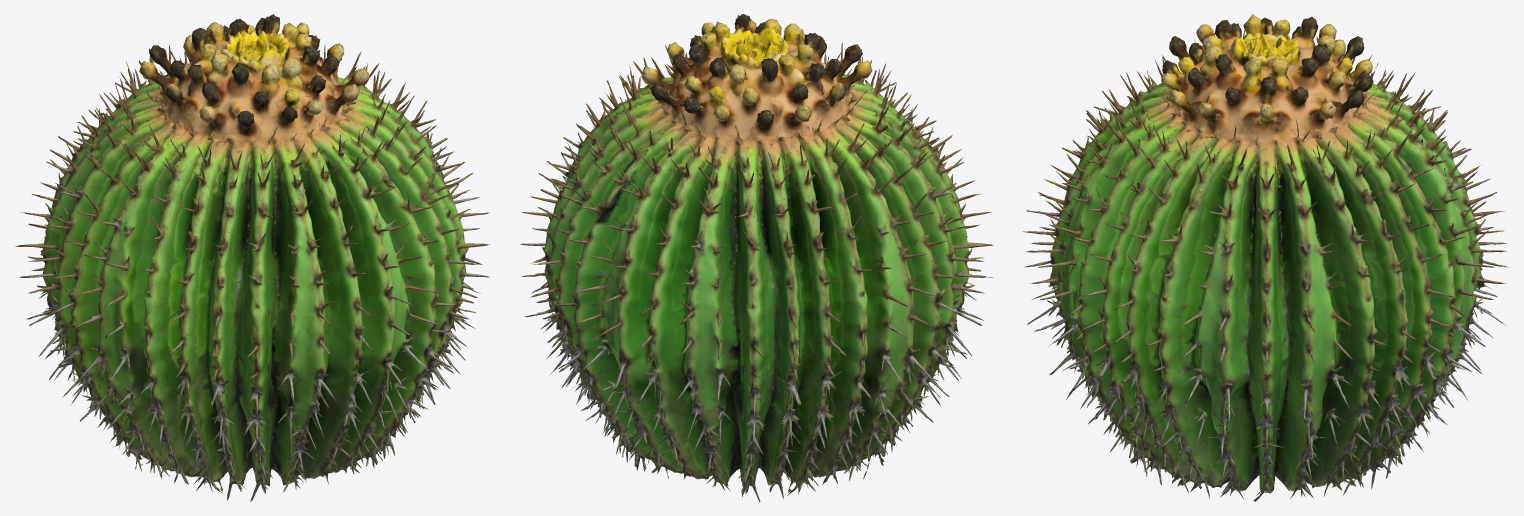
File: modelo_echinocactus.glb
The picture shows the model from 3 angles, left to right: view 1: azimuth 30°, elevation 25°; view 2: azimuth 150°, elevation 25°; view 3: azimuth 270°, elevation 25°; orthographic projection.
Visible parts, largest first — view 1: Mesh1.0; view 2: Mesh1.0; view 3: Mesh1.0.
Boxes of the visible parts, x1=… form: Mesh1.0: x1=15, y1=14, x2=489, y2=501; Mesh1.0: x1=520, y1=14, x2=993, y2=501; Mesh1.0: x1=1023, y1=14, x2=1508, y2=501.
Bounding box in the file's own units: 1.98 × 1.9 × 1.99.
Materials: 1 (1 with a texture image).
